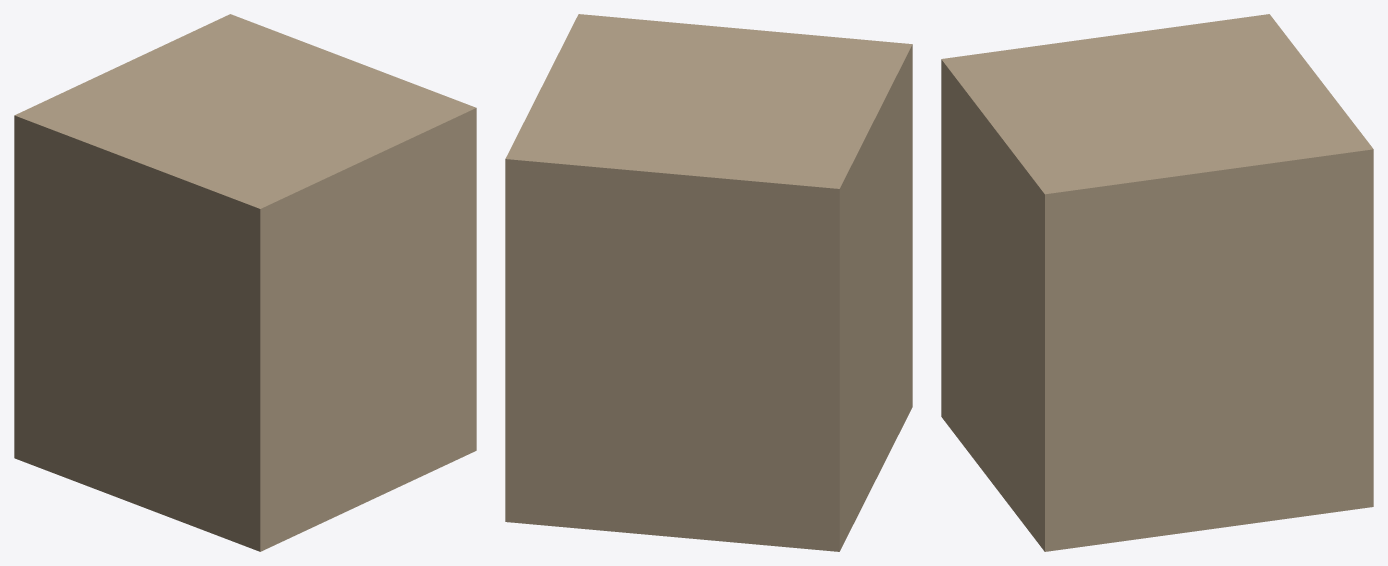
Rendered from bld_99867606.dae.
The picture shows the model from 3 angles, left to right: view 1: azimuth 30°, elevation 25°; view 2: azimuth 150°, elevation 25°; view 3: azimuth 270°, elevation 25°; orthographic projection. The views are drawn at different scales.
Parts seen in each view (by area): view 1: bld_99867606; view 2: bld_99867606; view 3: bld_99867606.
Part boxes in pixels (<box>): bld_99867606: <box>14,14,476,551</box>; bld_99867606: <box>505,14,912,551</box>; bld_99867606: <box>941,14,1373,551</box>.
Size of the model in its own units: 8.65 by 8.77 by 8.
